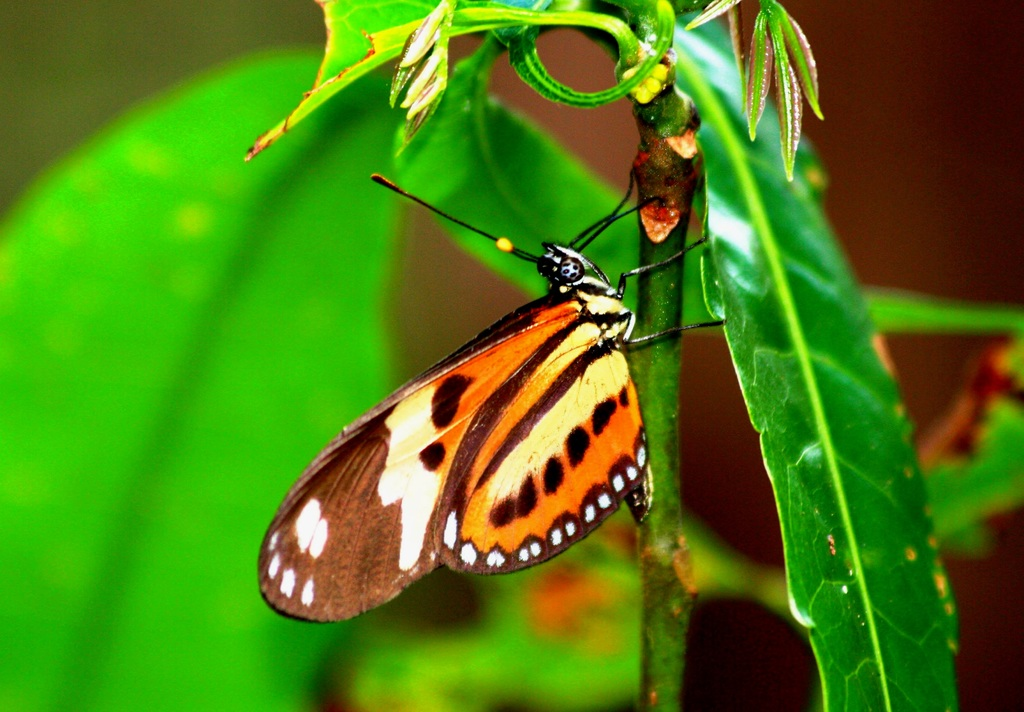Butterfly: (234, 218, 686, 625)
